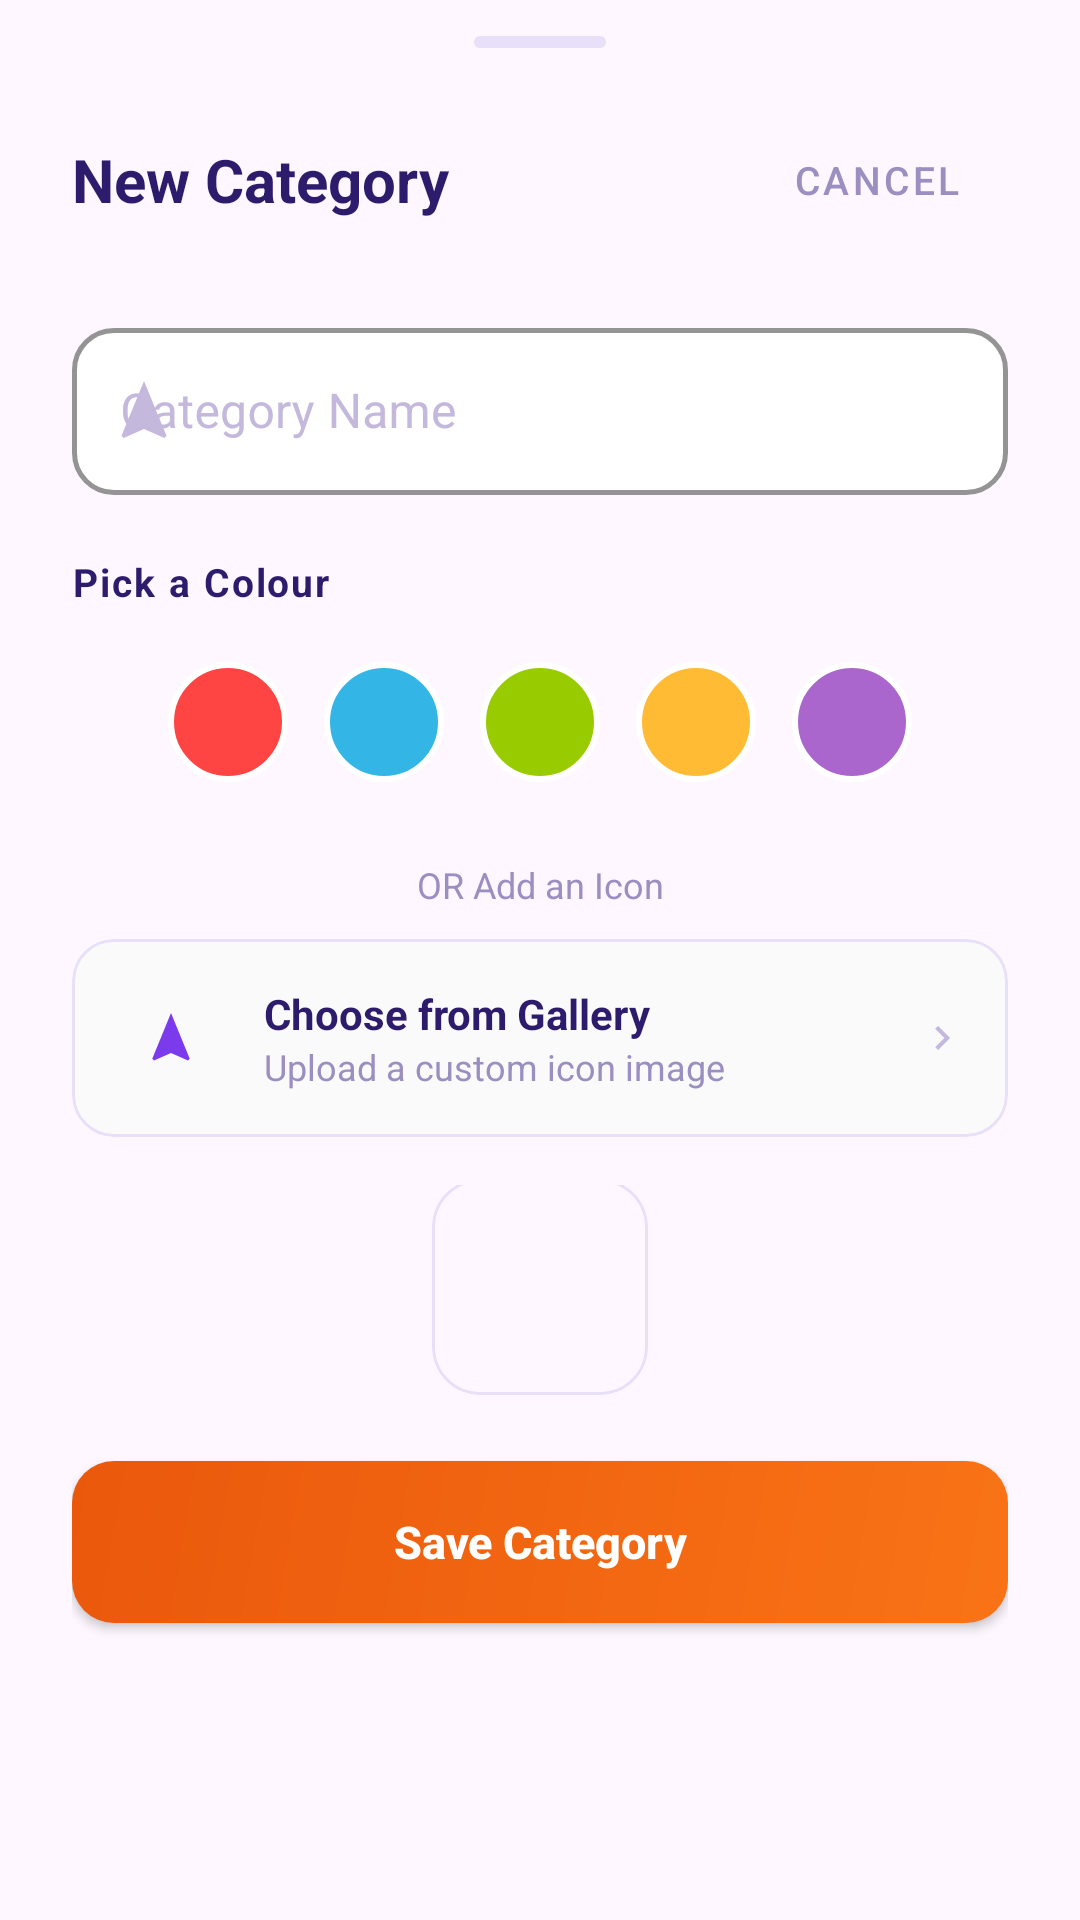

Icon click points for this 1080 × 1920 phone screenshot, format [x,y]:
chevron right: [942,1038]
